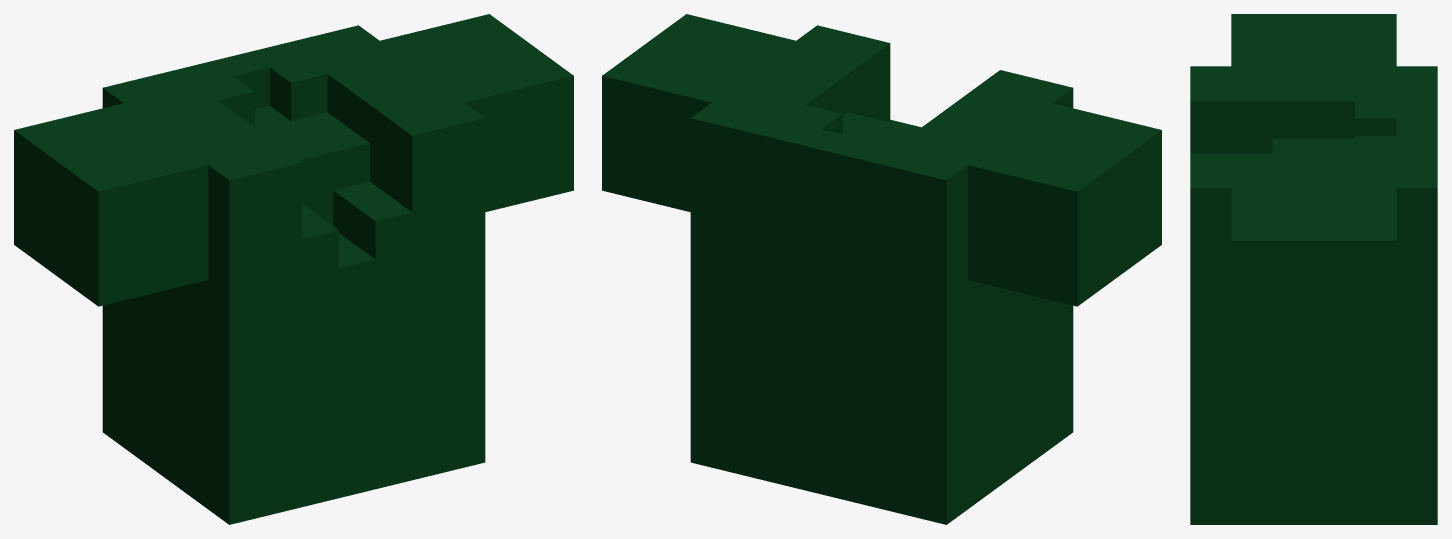
File: Matrix_20.fbx
3 renders of one model, left to right at view 1: azimuth 30°, elevation 25°; view 2: azimuth 150°, elevation 25°; view 3: azimuth 270°, elevation 25°, orthographic. The views are drawn at different scales.
Parts seen in each view (by area): view 1: Matrix_20; view 2: Matrix_20; view 3: Matrix_20.
Boxes of the visible parts, x1=… form: Matrix_20: x1=14, y1=14, x2=573, y2=524; Matrix_20: x1=602, y1=14, x2=1161, y2=524; Matrix_20: x1=1190, y1=14, x2=1437, y2=524.
Size of the model in its own units: 13 by 9 by 6.
Materials: 1 (1 with a texture image).
